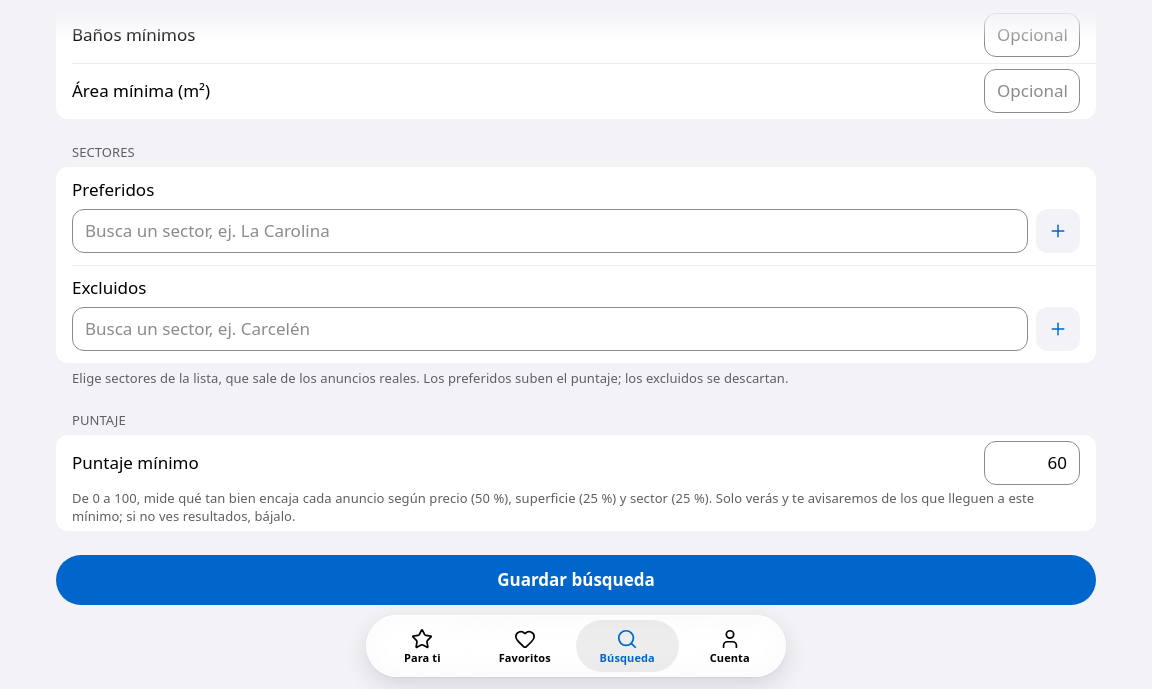
Test case: SearchProfilePage › picks a suggestion with the keyboard
This screenshot has width=1152, height=689.
(page scrolled)
In the dropdown labelled "Excluidos": {"x": 550, "y": 329} [72, 307, 1028, 351], type "car"
Then press Arrowdown, Arrowdown, Enter
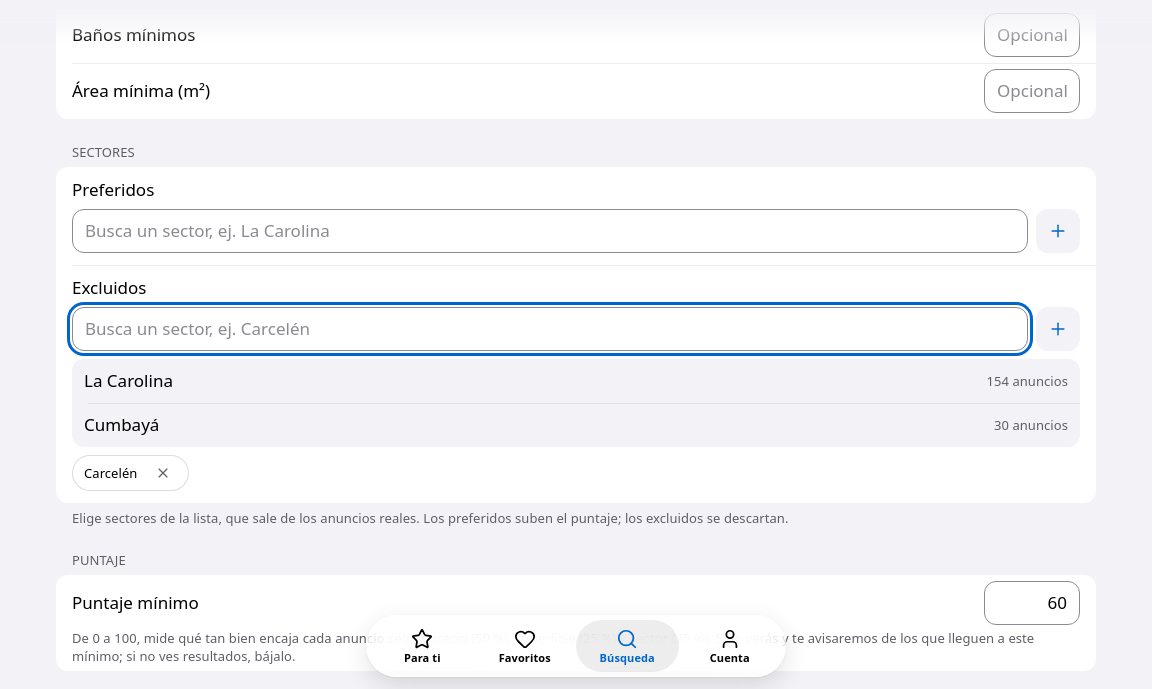
expect the list named "Excluidos agregados" reads "Carcelén": met, box [84, 464, 137, 482]
